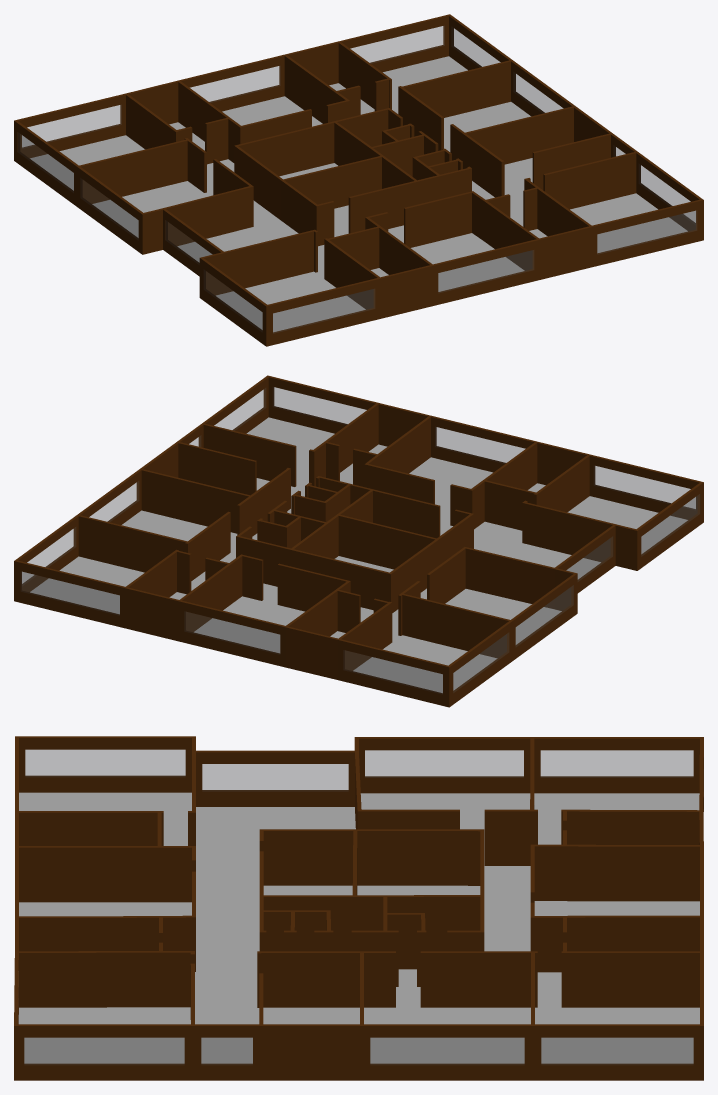
The picture shows the model from 3 angles, top to bottom: view 1: azimuth 30°, elevation 25°; view 2: azimuth 150°, elevation 25°; view 3: azimuth 270°, elevation 25°; orthographic projection. The views are drawn at different scales.
Parts seen in each view (by area): view 1: Plane.030, Plane.022; view 2: Plane.030, Plane.022; view 3: Plane.030, Plane.022.
Part boxes in pixels (x1,y1,x2,y2): Plane.030: (14,14,703,346); Plane.022: (30,56,687,332); Plane.030: (14,375,703,707); Plane.022: (30,417,687,692); Plane.030: (14,736,703,1080); Plane.022: (18,792,699,1063).
Bounding box in the file's own units: 34.1 × 3 × 34.31.
